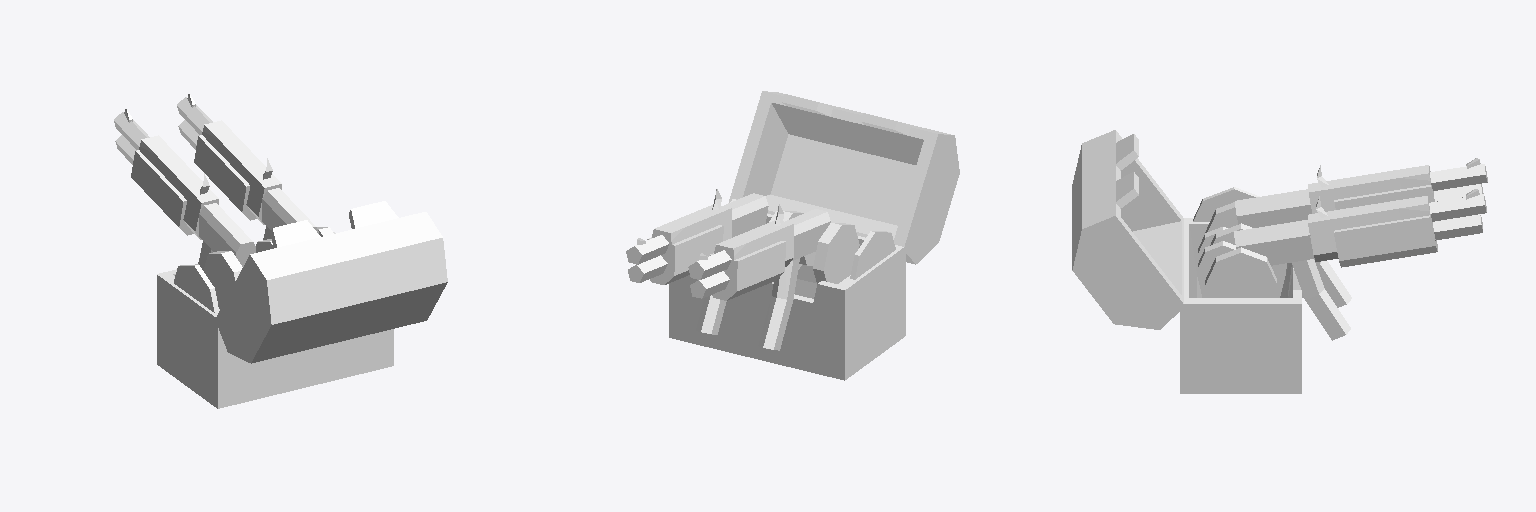
The picture shows the model from 3 angles: view 1: azimuth 30°, elevation 25°; view 2: azimuth 150°, elevation 25°; view 3: azimuth 270°, elevation 25°; orthographic projection.
Parts seen in each view (by area): view 1: body; view 2: body; view 3: body.
Boxes of the visible parts, x1=… form: body: x1=114, y1=94, x2=447, y2=408; body: x1=626, y1=91, x2=959, y2=380; body: x1=1072, y1=130, x2=1487, y2=393.
Bounding box in the file's own units: 0.9 × 0.9273 × 1.84.